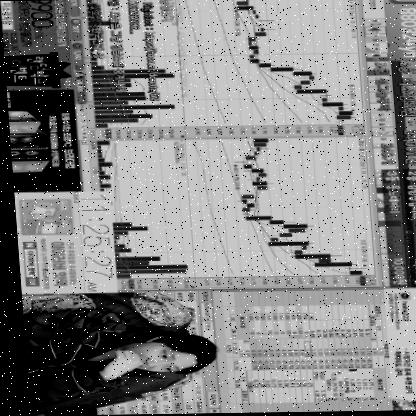streamer: (18, 305, 215, 402)
